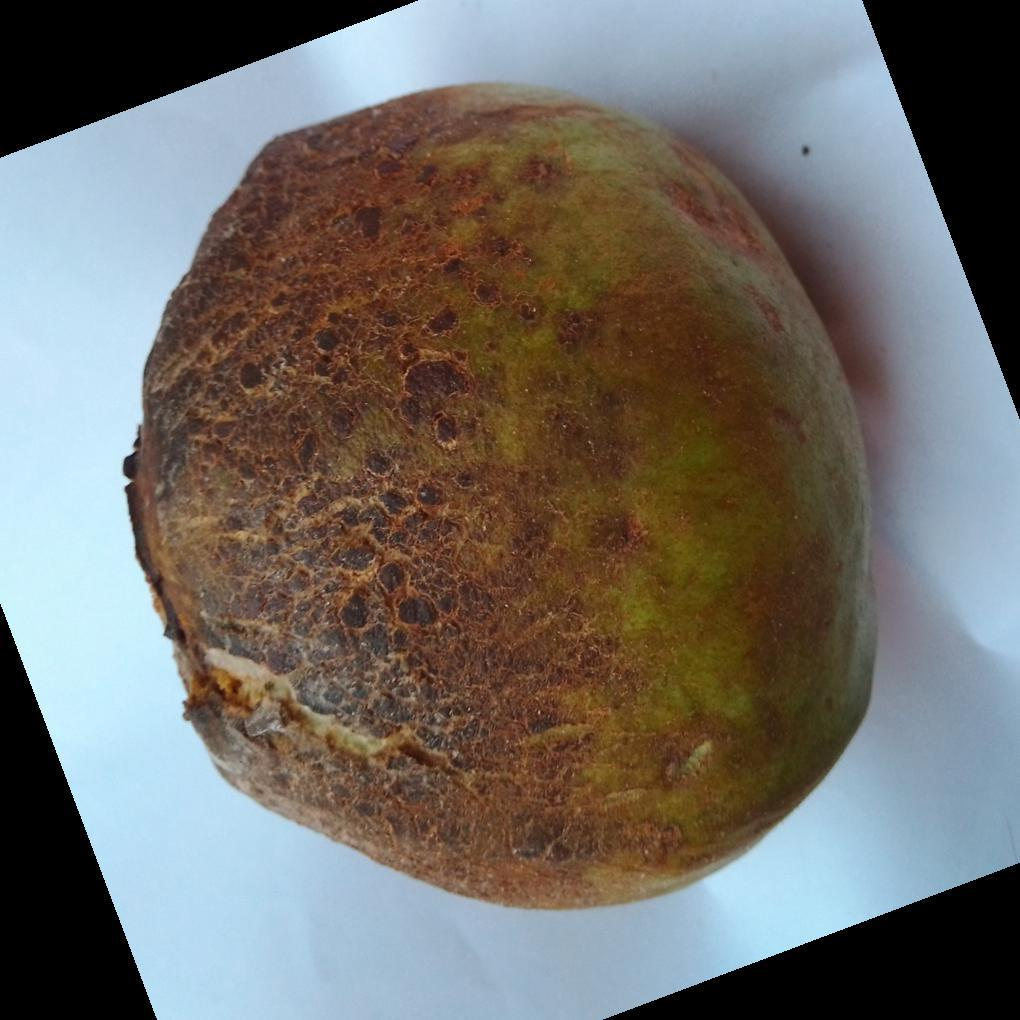FreshOrange: (123, 83, 879, 917)
